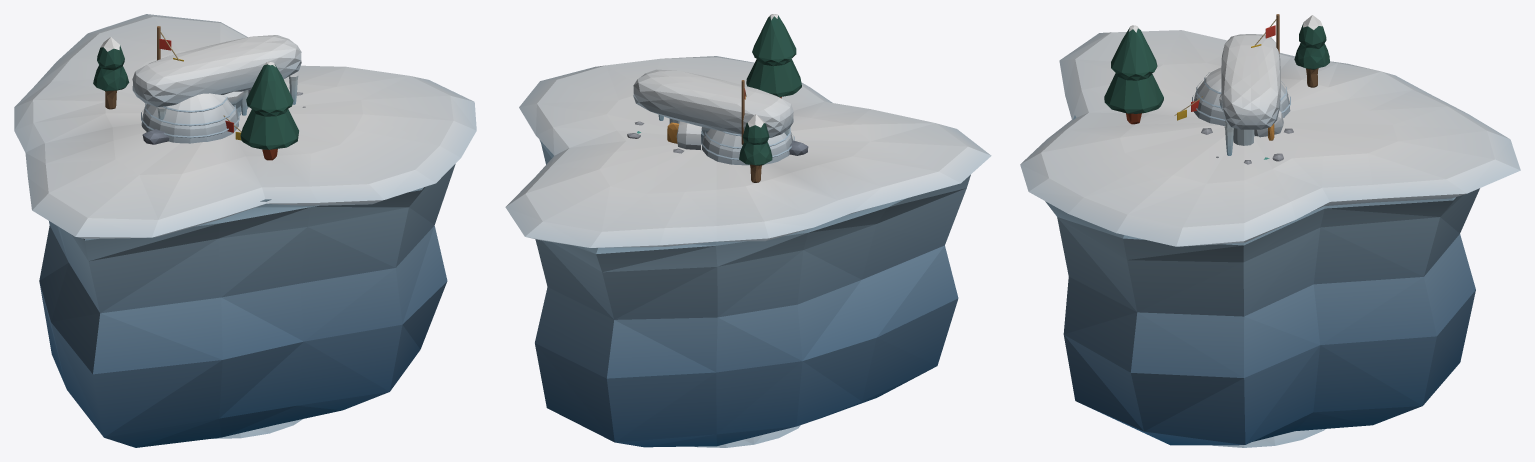
The model's file is glacier-s8-DFInyP6s.glb.
The picture shows the model from 3 angles, left to right: view 1: azimuth 30°, elevation 25°; view 2: azimuth 150°, elevation 25°; view 3: azimuth 270°, elevation 25°; orthographic projection. The views are drawn at different scales.
Visible parts, largest first — view 1: sc_shelf_1, sc_z1_0; view 2: sc_shelf_1, sc_z1_0; view 3: sc_shelf_1, sc_z1_0.
Part boxes in pixels (left/top/right/bottom): sc_shelf_1: left=14, top=14, right=476, bottom=447; sc_z1_0: left=132, top=35, right=302, bottom=438; sc_shelf_1: left=505, top=14, right=991, bottom=447; sc_z1_0: left=633, top=69, right=800, bottom=447; sc_shelf_1: left=1020, top=14, right=1520, bottom=445; sc_z1_0: left=1212, top=34, right=1325, bottom=447.
Size of the model in its own units: 31.02 by 25.32 by 30.32.
